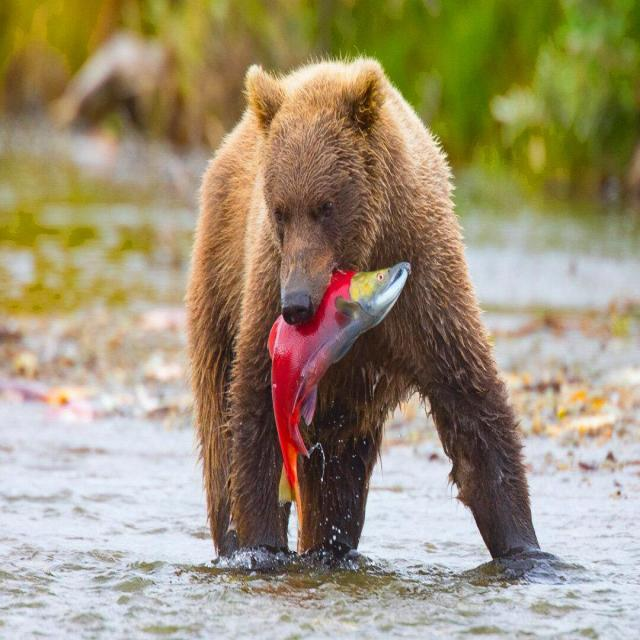Bear: (185, 60, 545, 584)
